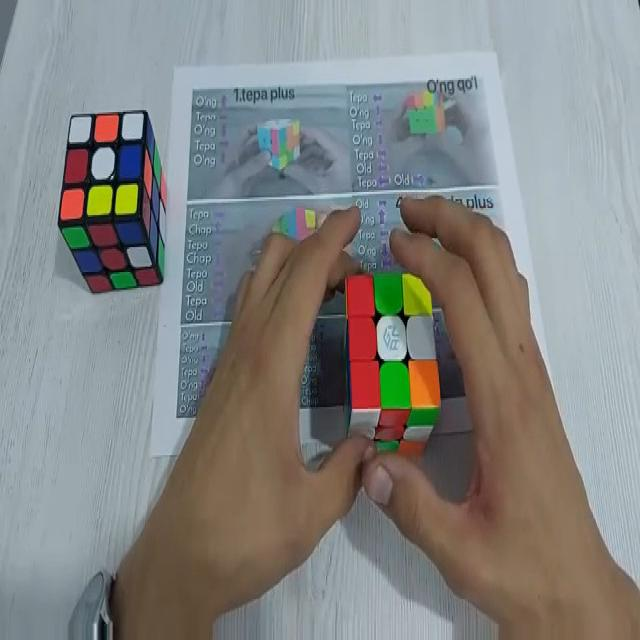Rub: (58, 108, 167, 291), (344, 267, 442, 467)
